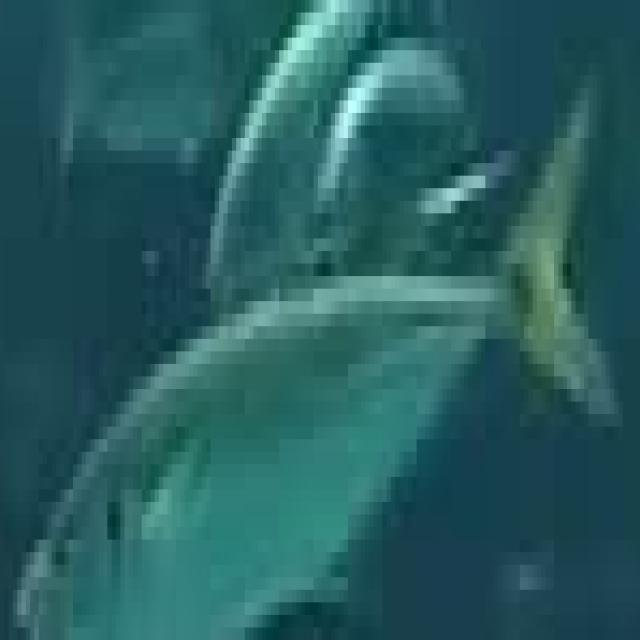fish: (4, 12, 639, 640)
